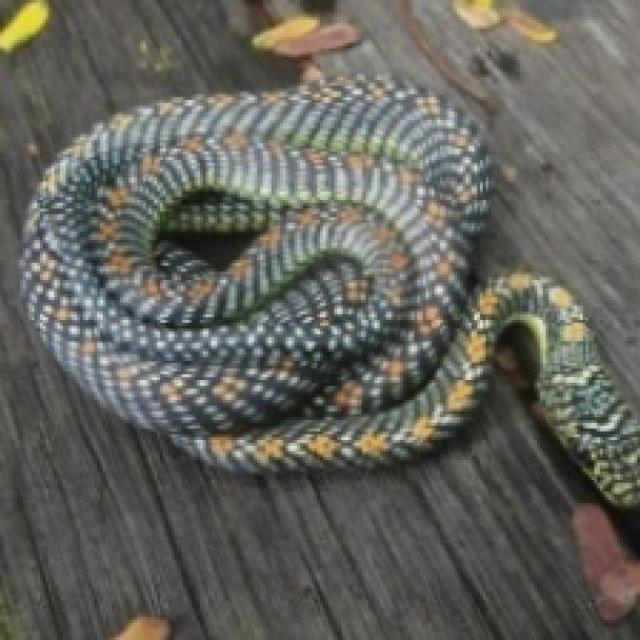paradise tree snake: (23, 77, 637, 506)
